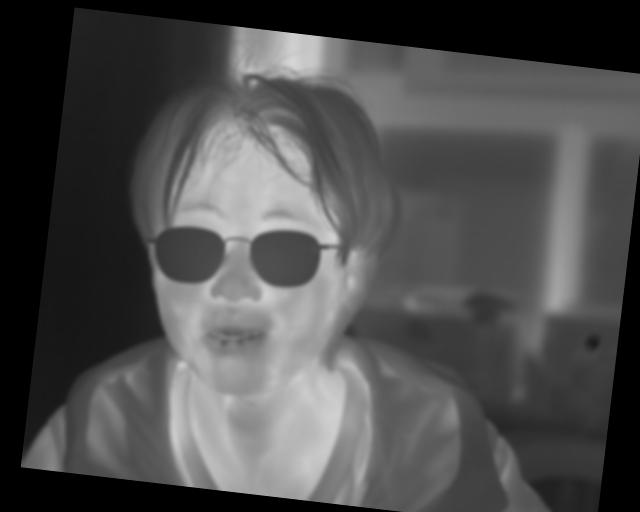face: (61, 13, 250, 223), (364, 121, 490, 260)
